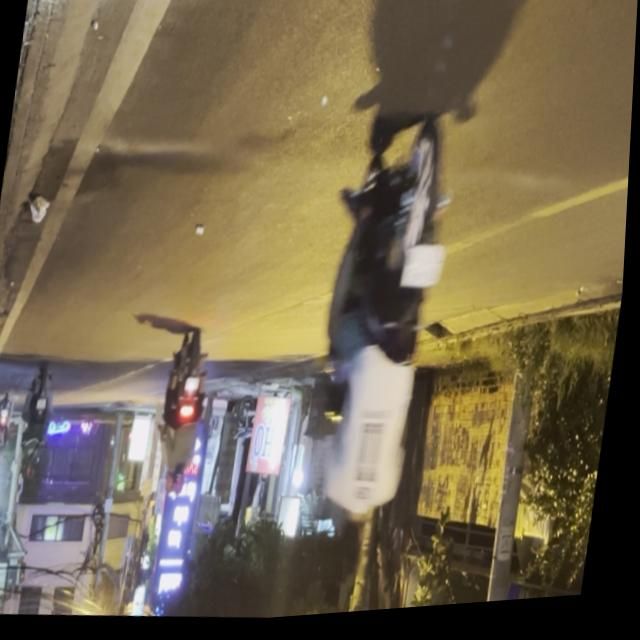licenseplate: (289, 113, 471, 600)
motorcyclist: (331, 512, 377, 592)
nohelmet: (402, 248, 449, 296)
